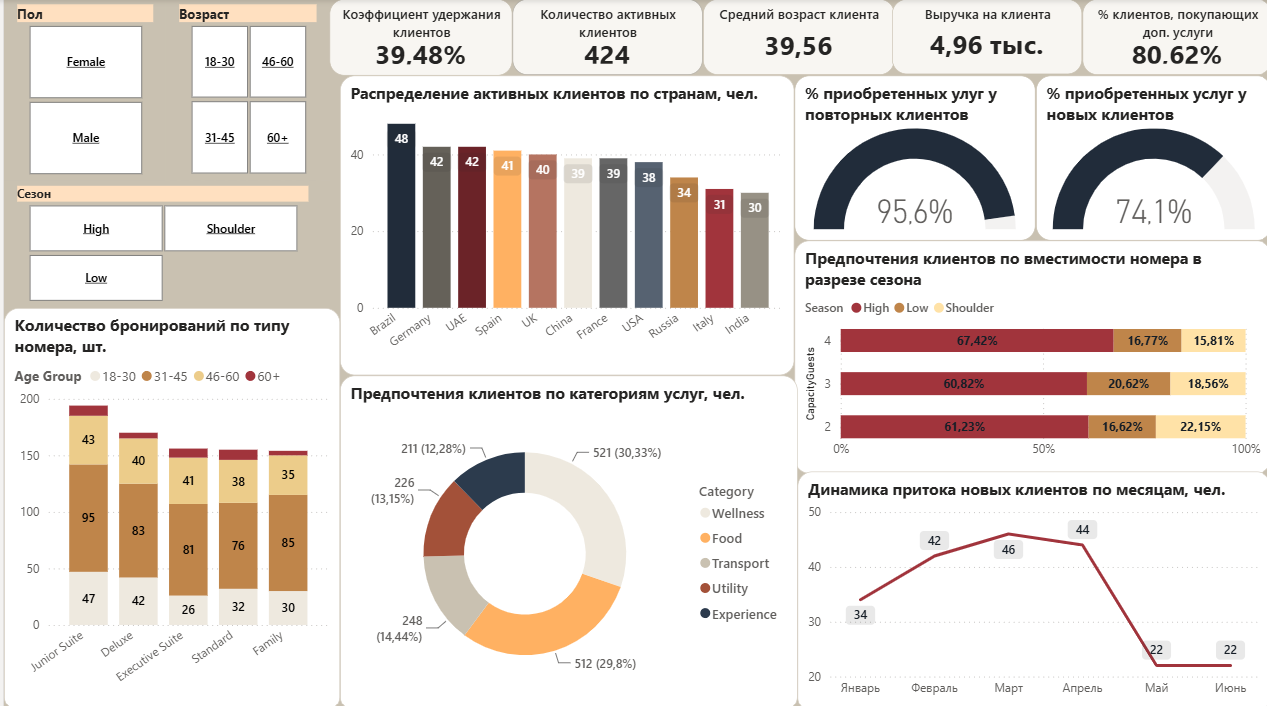

This screenshot's page, from the dashboard's own definition file:
{"tool":"powerbi","page":{"name":"Отчет по клиентам","canvas":[1280,720],"ordinal":2},"visuals":[{"type":"slicer","fields":{"Values":["Clients.Age Group"]},"box":[163.5,0,165,183.2],"z":0},{"type":"slicer","fields":{"Values":["Clients.Gender"]},"box":[0,0,163.3,183.3],"z":1000},{"type":"card","title":"Коэффициент удержания клиентов","fields":{"Values":["Таблица мер.Retantion rate"]},"box":[328.6,0,184.7,77.2],"z":2000},{"type":"card","title":"Количество активных клиентов","fields":{"Values":["Таблица мер.Активные клиенты"]},"box":[513.3,0,191.7,76.7],"z":3000},{"type":"card","title":"Средний возраст клиента","fields":{"Values":["Таблица мер.Средний возраст клиента"]},"box":[705,0,193.3,76.7],"z":4000},{"type":"card","title":"Выручка на клиента ","fields":{"Values":["Таблица мер.Выручка на клиента"]},"box":[896,0,192,76],"z":5000},{"type":"hundredPercentStackedBarChart","title":"Предпочтения клиентов по вместимости номера в разрезе сезона","fields":{"Category":["Rooms.CapacityGuests"],"Series":["Bookings.Season"],"Y":["Таблица мер.Количество совершенных бронирований, шт"]},"box":[798.3,243.3,481.7,235],"z":6000},{"type":"columnChart","title":"Распределение активных клиентов по странам, чел.","fields":{"Category":["Clients.Country"],"Y":["Таблица мер.Активные клиенты"]},"box":[339.2,77.2,458.8,302.8],"z":7000},{"type":"donutChart","title":"Предпочтения клиентов по категориям услуг, чел.","fields":{"Category":["ServicesCatalog.Category","ServicesCatalog.ServiceName"],"Y":["Sum(BookingServices.Quantity)"]},"box":[339.2,380.1,461.8,339.2],"z":8000},{"type":"card","title":"% клиентов, покупающих доп. услуги","fields":{"Values":["Таблица мер.% клиентов, покупающих доп. услуги"]},"box":[1088.3,0,191.7,76.7],"z":9000},{"type":"slicer","fields":{"Values":["Bookings.Season"]},"box":[0,183.3,320,128.3],"z":10000},{"type":"gauge","title":"% приобретенных улуг у повторных клиентов","fields":{"Y":["Таблица мер.% услуг Повторные"]},"box":[798.3,76.7,243.3,166.7],"z":11000},{"type":"gauge","title":"% приобретенных услуг у новых клиентов","fields":{"Y":["Таблица мер.% услуг Новые"]},"box":[1041.7,76.7,238.3,166.7],"z":12000},{"type":"lineChart","title":"Динамика притока новых клиентов по месяцам, чел.","fields":{"Category":["Calendar.Месяц"],"Y":["Таблица мер.Новые клиенты_1"]},"box":[801.7,476.7,478.3,243.3],"z":13000},{"type":"columnChart","title":"Количество бронирований по типу номера, шт.","fields":{"Category":["Rooms.RoomType"],"Series":["Clients.Age Group"],"Y":["Таблица мер.Количество совершенных бронирований, шт"]},"box":[0,311.9,339.2,407.3],"z":14000}]}

Visuals, with their boxes in screenshot pixels (x1, y1, x2, y2), scaled from the page's 1280x720 canvas onto the 1267x706 screenshot:
slicer - Clients.Age Group: <region>162, 0, 325, 180</region>
slicer - Clients.Gender: <region>0, 0, 162, 180</region>
"Коэффициент удержания клиентов" card: <region>325, 0, 508, 76</region>
"Количество активных клиентов" card: <region>508, 0, 698, 75</region>
"Средний возраст клиента" card: <region>698, 0, 889, 75</region>
"Выручка на клиента " card: <region>887, 0, 1077, 75</region>
"Предпочтения клиентов по вместимости номера в разрезе сезона" hundredPercentStackedBarChart: <region>790, 239, 1266, 469</region>
"Распределение активных клиентов по странам, чел." columnChart: <region>336, 76, 790, 373</region>
"Предпочтения клиентов по категориям услуг, чел." donutChart: <region>336, 373, 793, 705</region>
"% клиентов, покупающих доп. услуги" card: <region>1077, 0, 1266, 75</region>
slicer - Bookings.Season: <region>0, 180, 317, 306</region>
"% приобретенных улуг у повторных клиентов" gauge: <region>790, 75, 1031, 239</region>
"% приобретенных услуг у новых клиентов" gauge: <region>1031, 75, 1266, 239</region>
"Динамика притока новых клиентов по месяцам, чел." lineChart: <region>794, 467, 1266, 705</region>
"Количество бронирований по типу номера, шт." columnChart: <region>0, 306, 336, 705</region>
